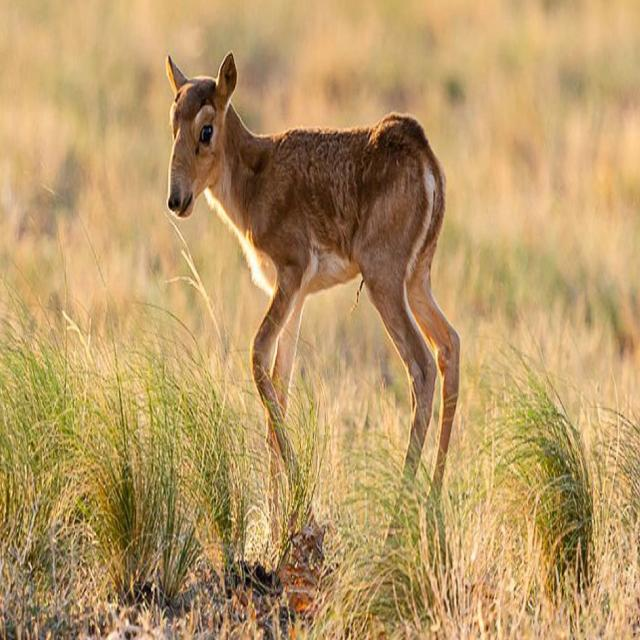Antelope: (153, 43, 464, 554)
